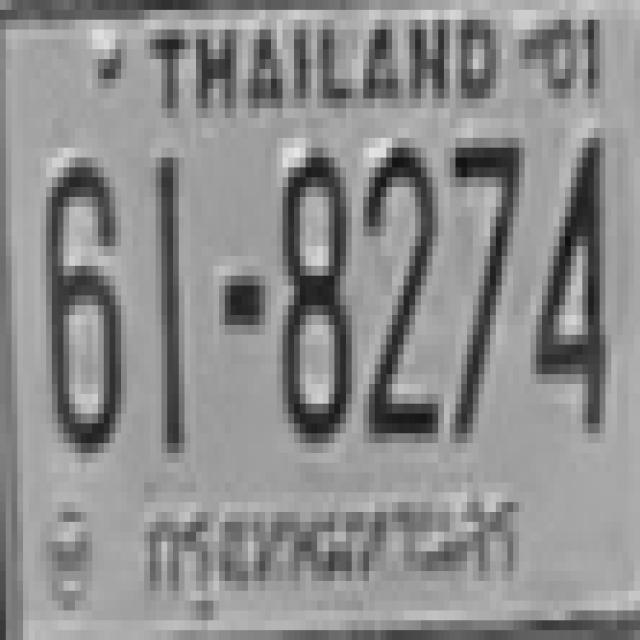1: (152, 148, 182, 443)
2: (363, 138, 432, 433)
4: (530, 128, 606, 423)
6: (40, 148, 116, 443)
7: (450, 128, 519, 433)
8: (277, 143, 346, 428)
Bangkok: (127, 466, 527, 632)
